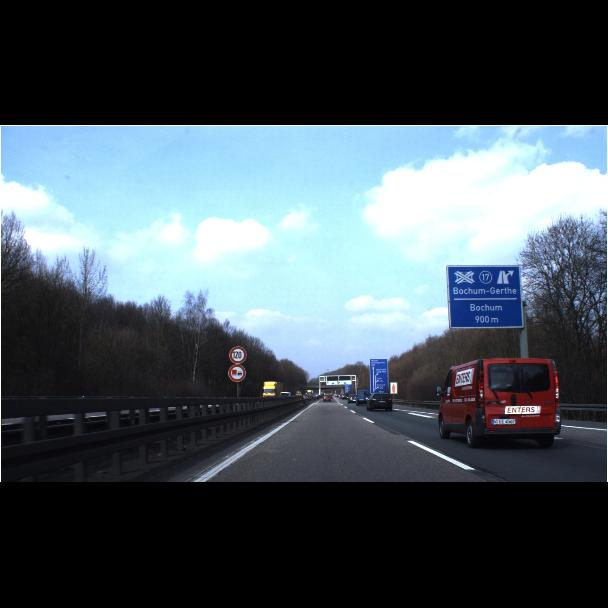speed limit 120: (228, 346, 247, 383)
